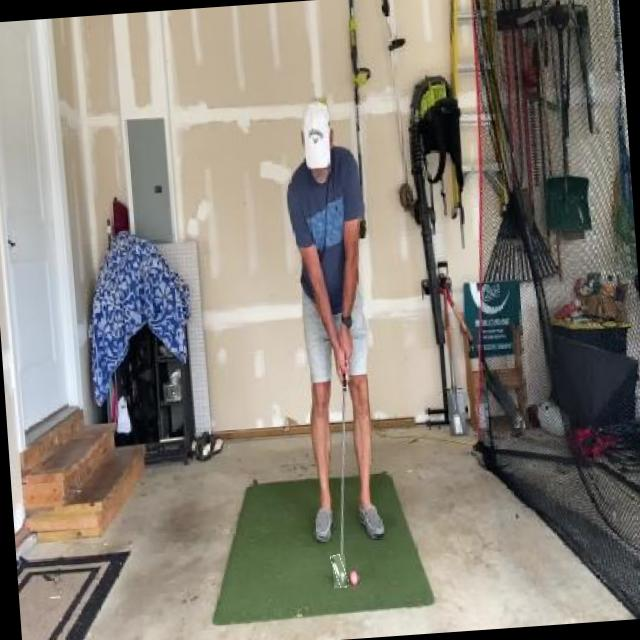club head: (332, 554, 346, 588)
